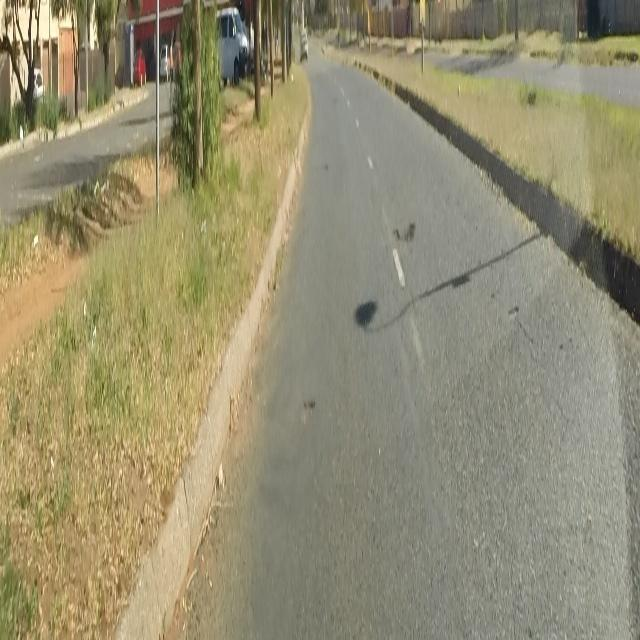pothole: (394, 208, 417, 250), (301, 392, 318, 413)
